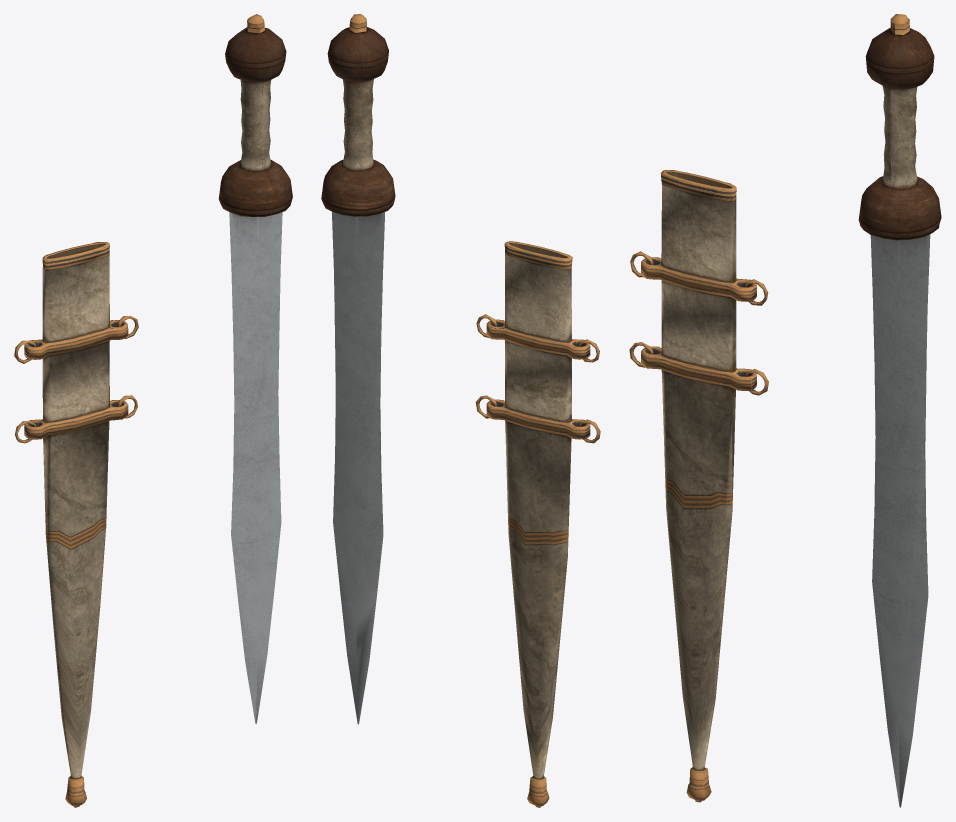
Rendered from gladius_samize.glb.
3 views of the same model, side by side, from view 1: azimuth 30°, elevation 25°; view 2: azimuth 150°, elevation 25°; view 3: azimuth 330°, elevation 25° (orthographic). The views are drawn at different scales.
Parts seen in each view (by area): view 1: defaultMaterial; view 2: defaultMaterial; view 3: defaultMaterial.
Boxes of the visible parts, x1,y1,x2,y2 form: defaultMaterial: (14,14,292,807); defaultMaterial: (321,14,600,807); defaultMaterial: (629,14,941,807).
Bounding box in the file's own units: 0.7656 × 2 × 0.1796.
1 material, 1 textured.
